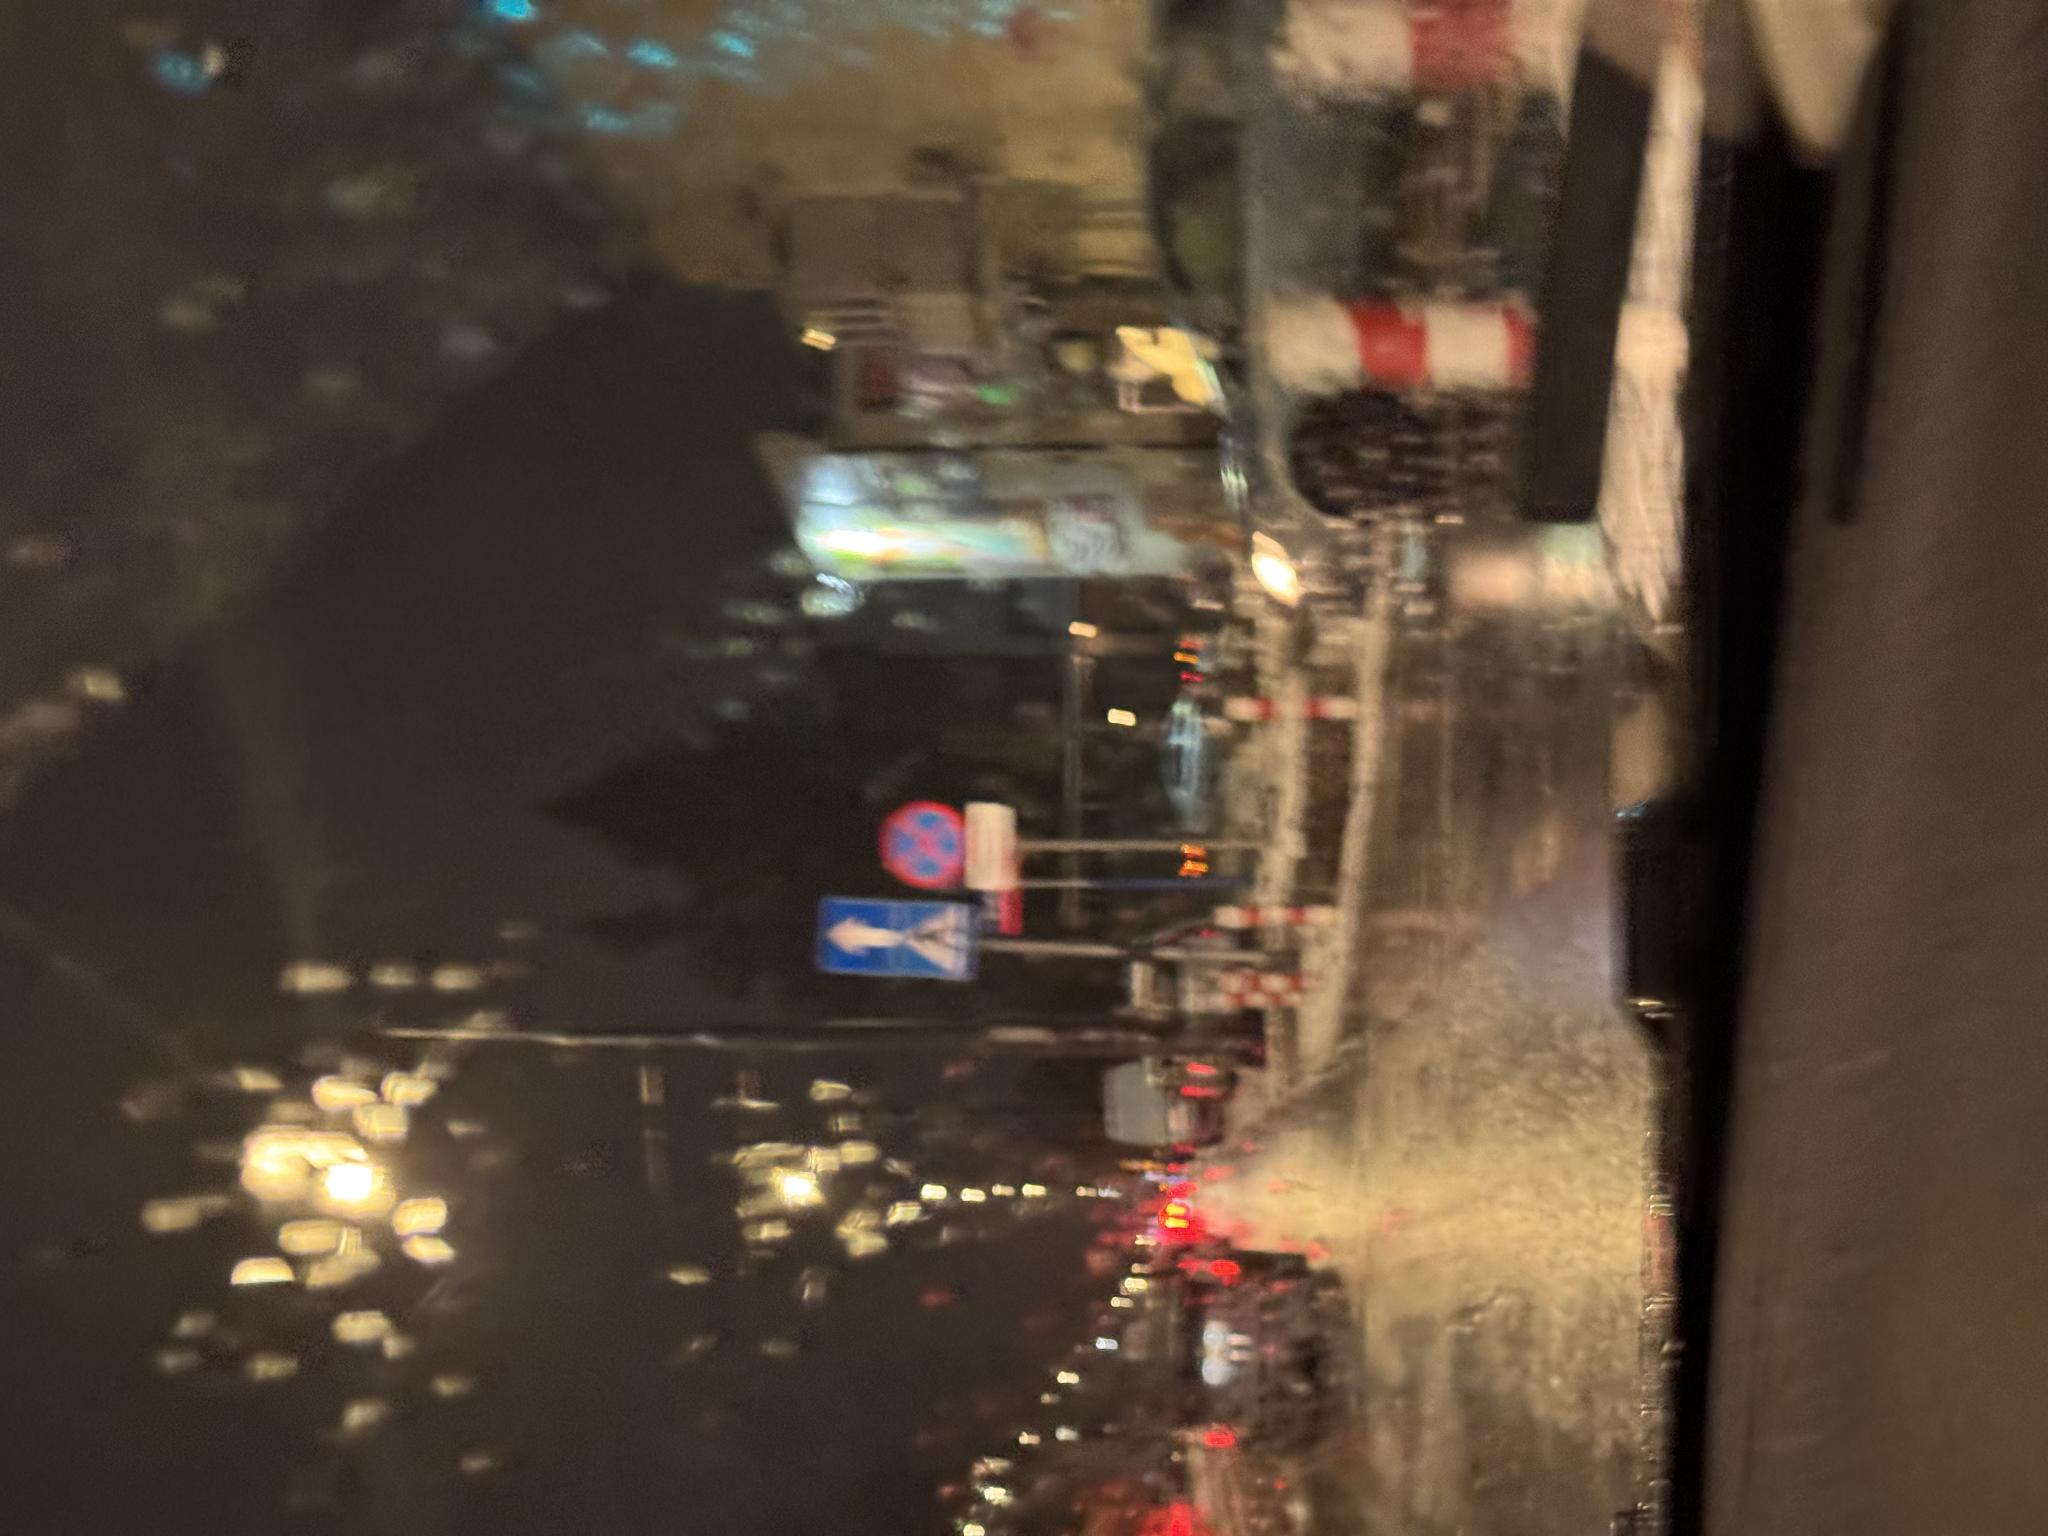information: (558, 897, 635, 975), (560, 821, 639, 897)
prohibitory: (648, 879, 737, 966)
